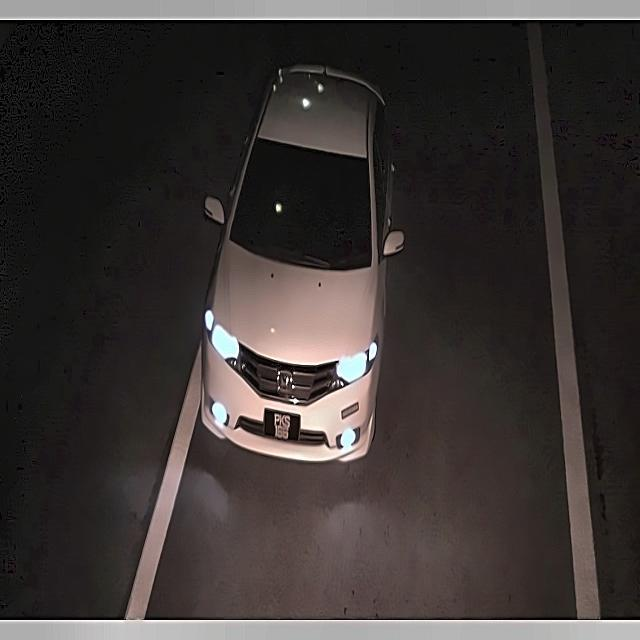car: (260, 406, 304, 451)
